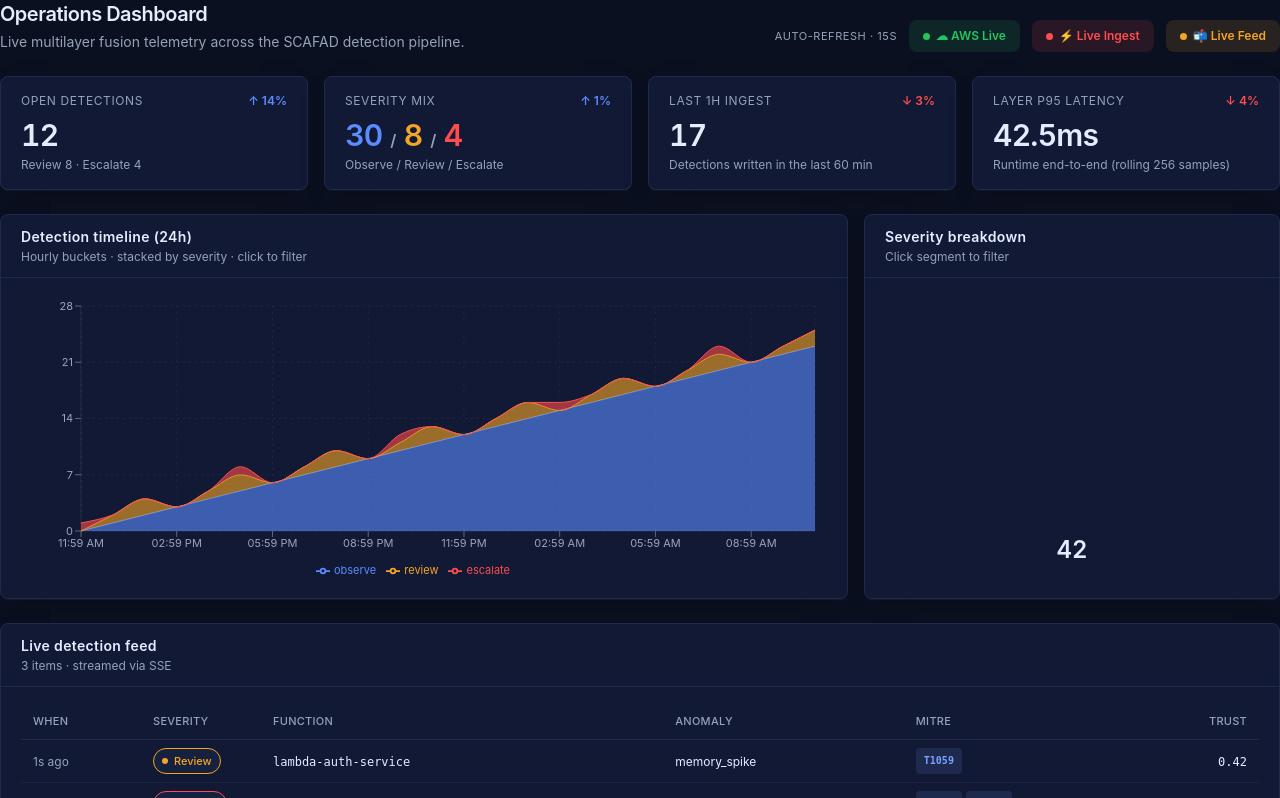
Test: Dashboard Upgrade Features › Live Feed Button and Panel › opens Live Anomaly Feed panel when Live Feed button is clicked
This screenshot has width=1280, height=798.
Expected: the text "Open detections" is shown, [21,93,143,109]
# Click the Live Feed button
Click the button "📬 Live Feed" at (1223, 36), box [1166,20,1279,52]
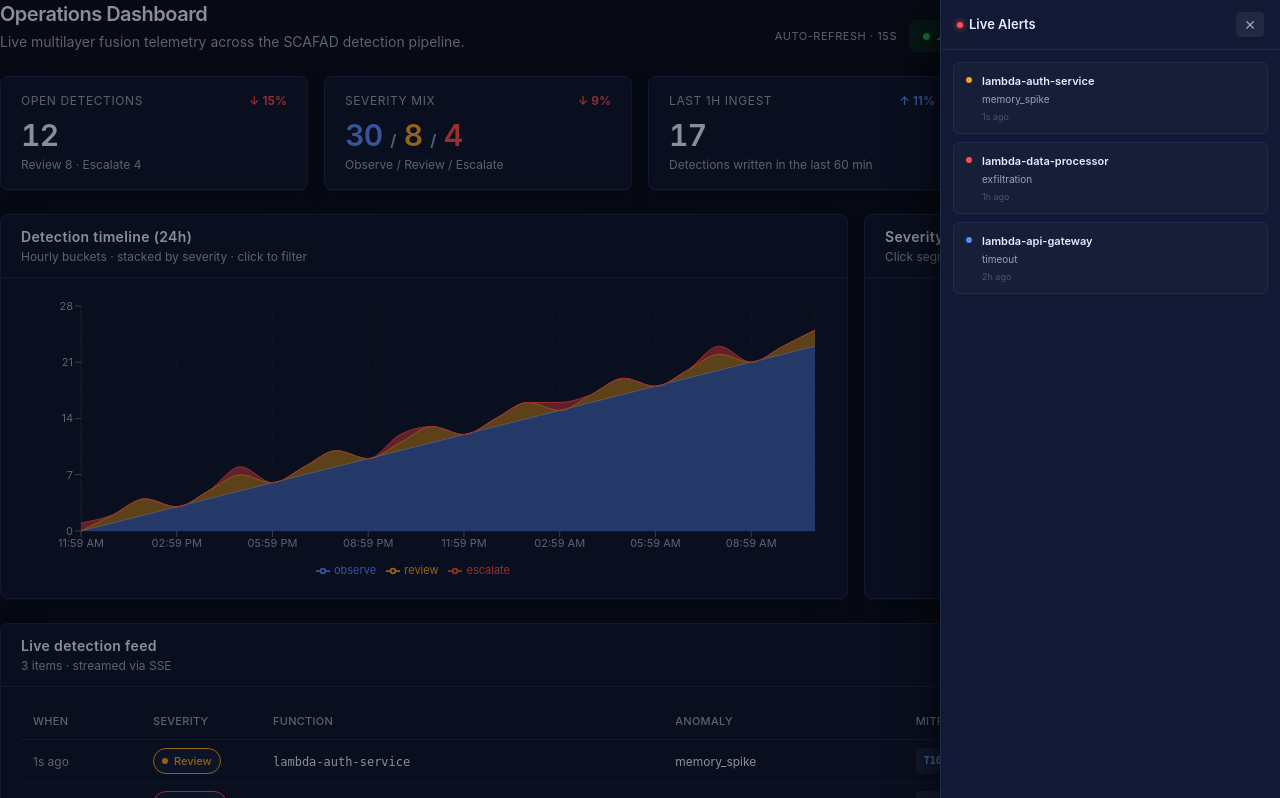
Expected: the text "lambda-auth-service" in the row of "T1059" is shown, [273,755,410,769]
Expected: the heading "Live Alerts" is shown, [969,15,1036,34]
